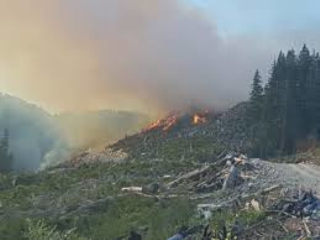fire: (145, 109, 223, 134)
smoke: (105, 8, 277, 105), (21, 93, 129, 172)
